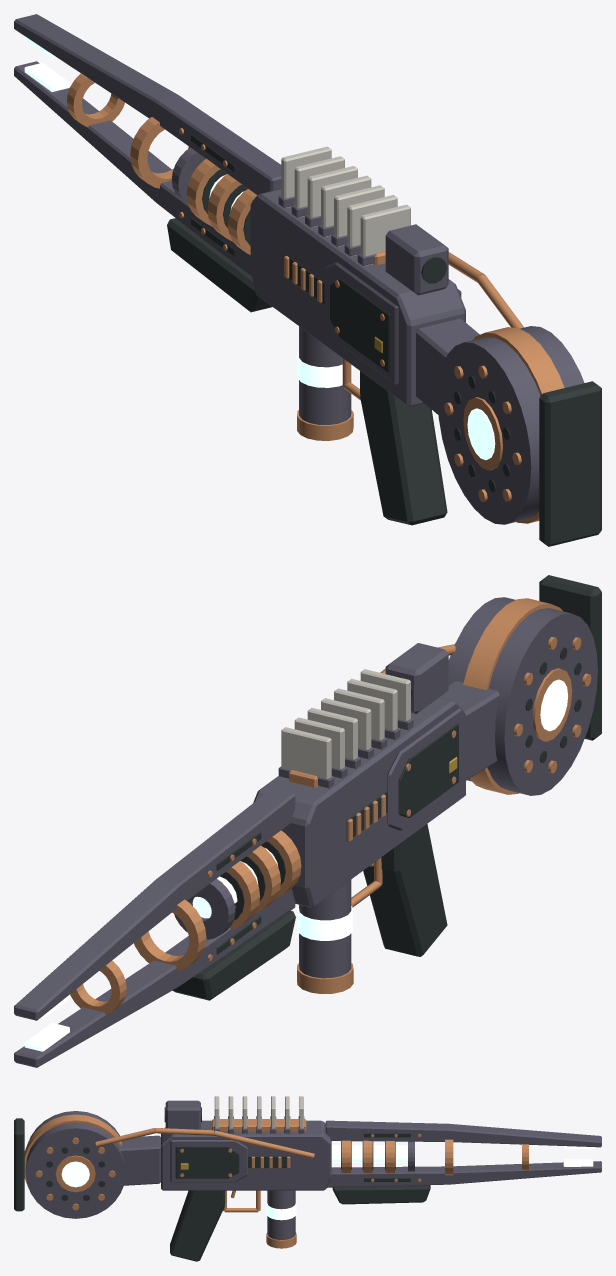
The model's file is laser_4.glb.
3 views of the same model, one above another, from view 1: azimuth 30°, elevation 25°; view 2: azimuth 150°, elevation 25°; view 3: azimuth 270°, elevation 25° (orthographic). The views are drawn at different scales.
Parts seen in each view (by area): view 1: Weapon_laser_v1; view 2: Weapon_laser_v1; view 3: Weapon_laser_v1.
Boxes of the visible parts, left/top/right/bottom form: Weapon_laser_v1: left=14, top=14, right=601, bottom=546; Weapon_laser_v1: left=14, top=575, right=601, bottom=1067; Weapon_laser_v1: left=14, top=1096, right=601, bottom=1261.
Bounding box in the file's own units: 0.085 × 0.2919 × 1.
